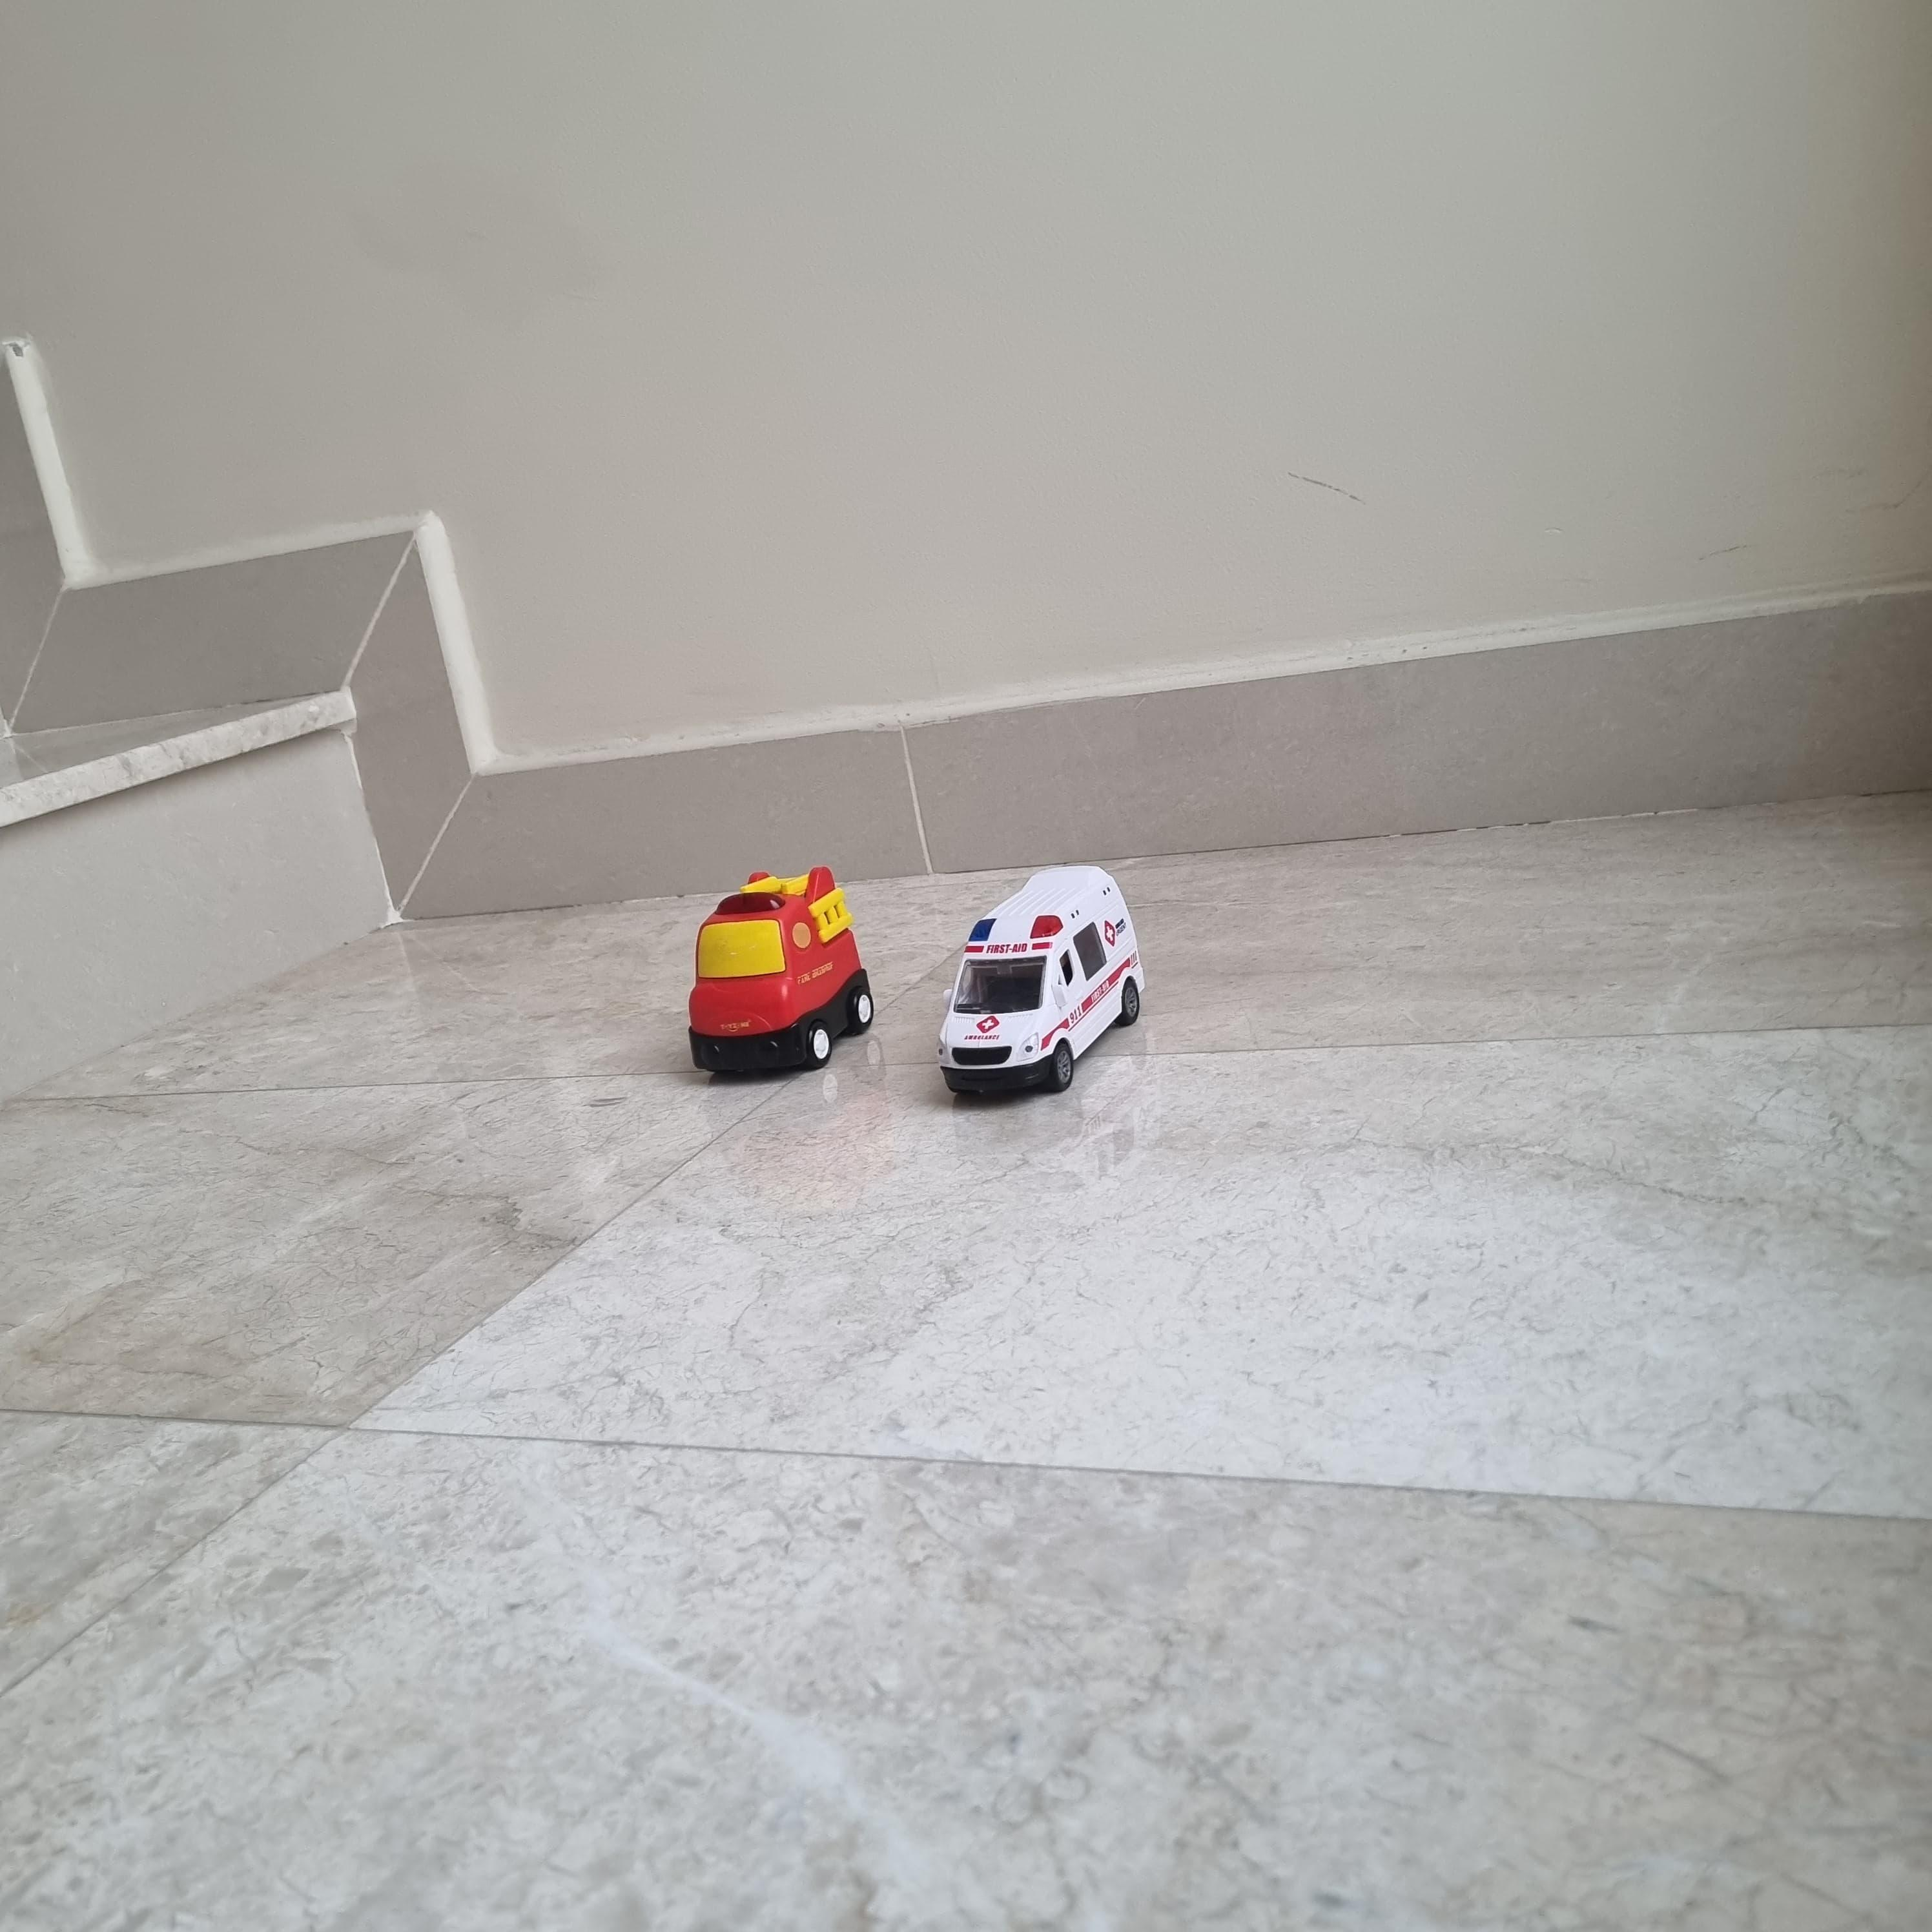ambulance_off: (934, 865, 1143, 1095)
firetruck_off: (688, 869, 876, 1079)
